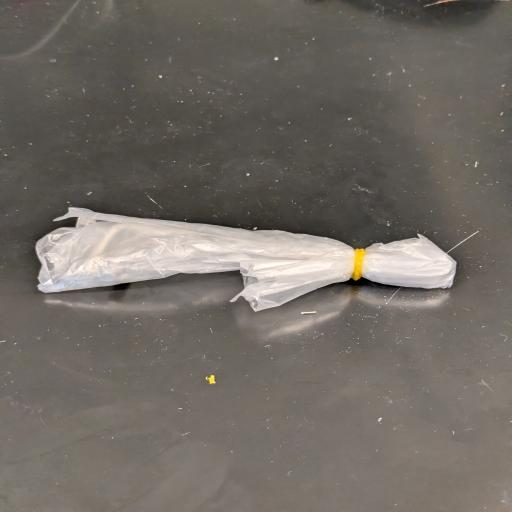rubberband: (28, 202, 465, 316)
